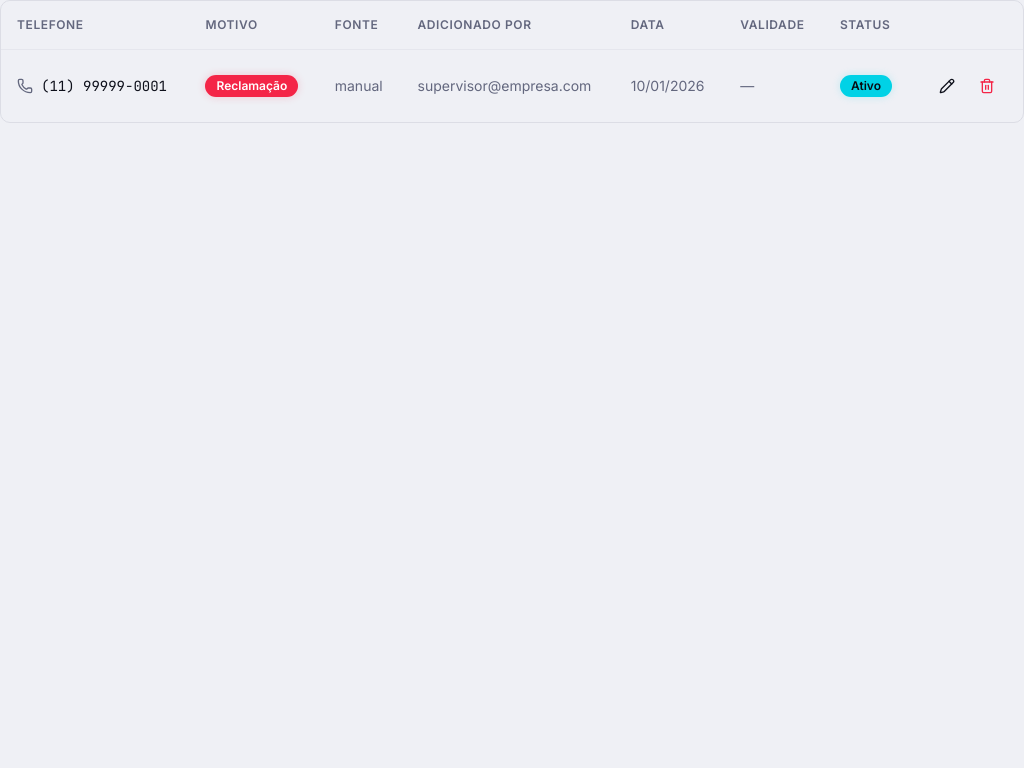
Test case: DNCTable — rastreabilidade e edicao (etapa 175) › pede confirmacao mostrando o numero antes de remover
Click the button named "Remover (11) 99999-0001".
click(987, 86)  # box [967,66,1007,106]
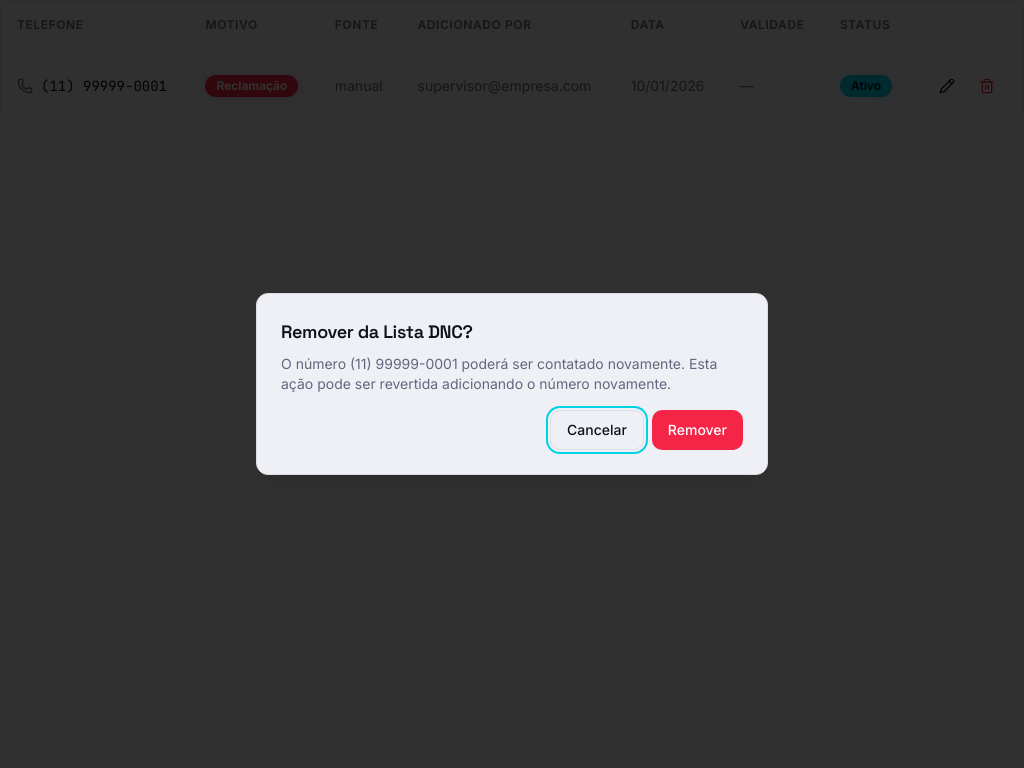
Expected: the heading "Remover da Lista DNC?" is shown, [281,320,472,343]
Expected: the text "(11) 99999-0001 poderá ser contatado novamente" is shown, [281,354,743,394]
